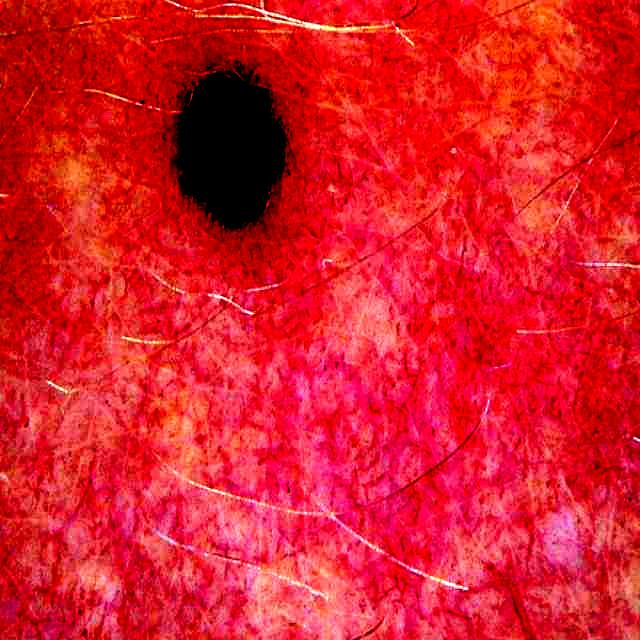NV: (180, 73, 286, 225)
